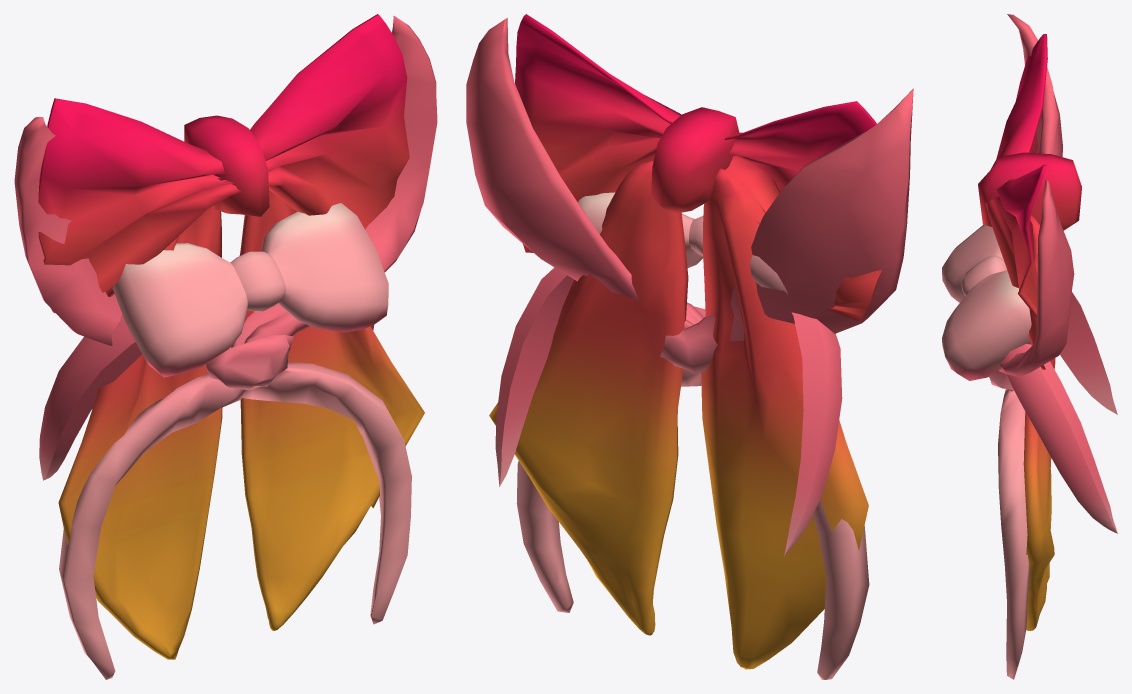
File: ObbyGame_Characters_hairbands_.fbx
3 views of the same model, side by side, from view 1: azimuth 30°, elevation 25°; view 2: azimuth 150°, elevation 25°; view 3: azimuth 270°, elevation 25° (orthographic). The views are drawn at different scales.
Parts seen in each view (by area): view 1: ObbyGame_Characters_hairband_000, ObbyGame_Characters_hairband_001, ObbyGame_Characters_hairband_002; view 2: ObbyGame_Characters_hairband_000, ObbyGame_Characters_hairband_001, ObbyGame_Characters_hairband_002; view 3: ObbyGame_Characters_hairband_002, ObbyGame_Characters_hairband_000, ObbyGame_Characters_hairband_001.
Boxes of the visible parts, box(x1,y1,x2,y2) form: ObbyGame_Characters_hairband_000: box(38, 14, 424, 659); ObbyGame_Characters_hairband_001: box(14, 16, 437, 679); ObbyGame_Characters_hairband_002: box(39, 203, 388, 480); ObbyGame_Characters_hairband_000: box(489, 14, 881, 669); ObbyGame_Characters_hairband_001: box(466, 18, 913, 679); ObbyGame_Characters_hairband_002: box(495, 192, 842, 556); ObbyGame_Characters_hairband_002: box(942, 224, 1117, 533); ObbyGame_Characters_hairband_000: box(978, 34, 1081, 630); ObbyGame_Characters_hairband_001: box(989, 14, 1074, 679).
Size of the model in its own units: 215 by 284 by 87.3.
2 materials, 2 textured.
